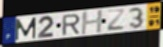2: (37, 15, 56, 40)
3: (128, 6, 145, 29)
H: (81, 8, 105, 36)
M: (15, 16, 38, 41)
R: (61, 13, 82, 37)
Z: (107, 9, 127, 32)
